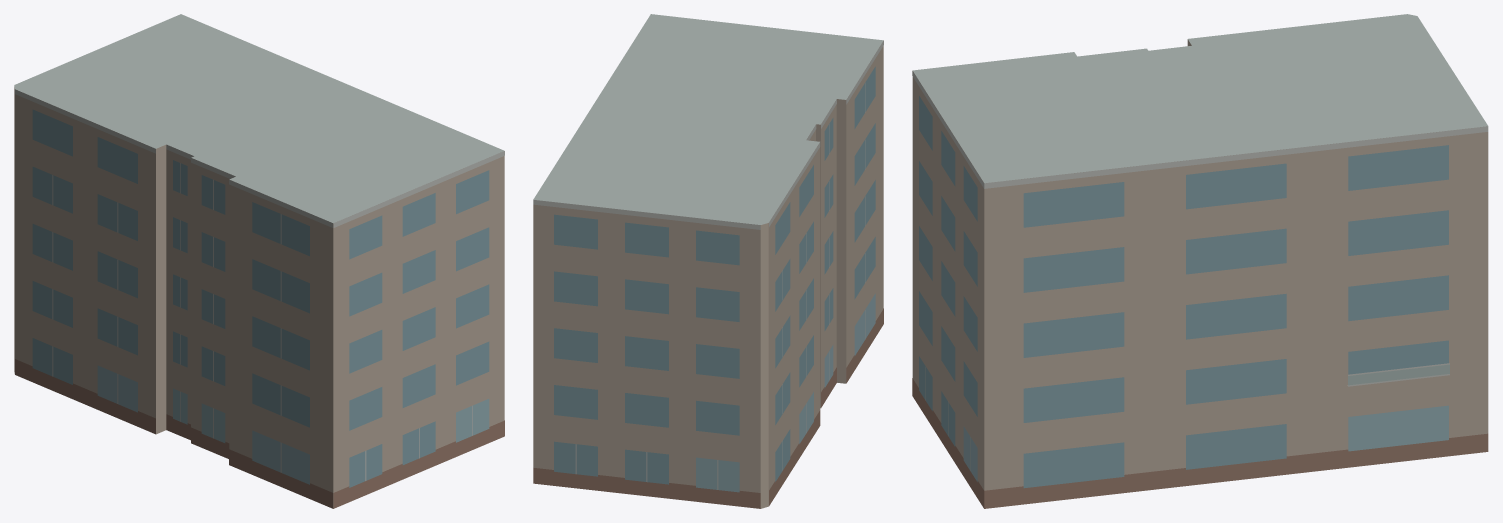
Rendered from survey-upis-32561904.glb.
3 views of the same model, side by side, from view 1: azimuth 30°, elevation 25°; view 2: azimuth 150°, elevation 25°; view 3: azimuth 270°, elevation 25° (orthographic). The views are drawn at different scales.
Parts seen in each view (by area): view 1: survey-upis-32561904.tmp; view 2: survey-upis-32561904.tmp; view 3: survey-upis-32561904.tmp.
Boxes of the visible parts, box(x1,y1,x2,y2) form: survey-upis-32561904.tmp: box(14, 14, 504, 508); survey-upis-32561904.tmp: box(533, 14, 883, 508); survey-upis-32561904.tmp: box(912, 14, 1488, 508).
Bounding box in the file's own units: 15.79 × 14.15 × 22.69.
